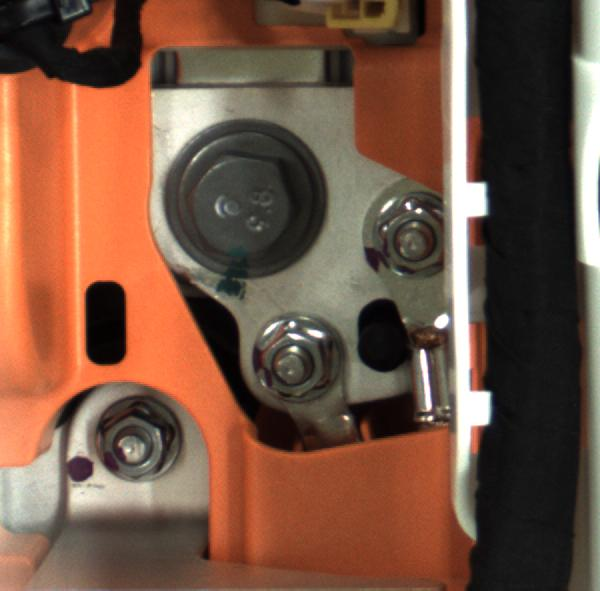nut_b: (145, 111, 355, 285)
screw_s: (81, 395, 207, 488), (245, 313, 341, 402), (367, 206, 454, 285)
